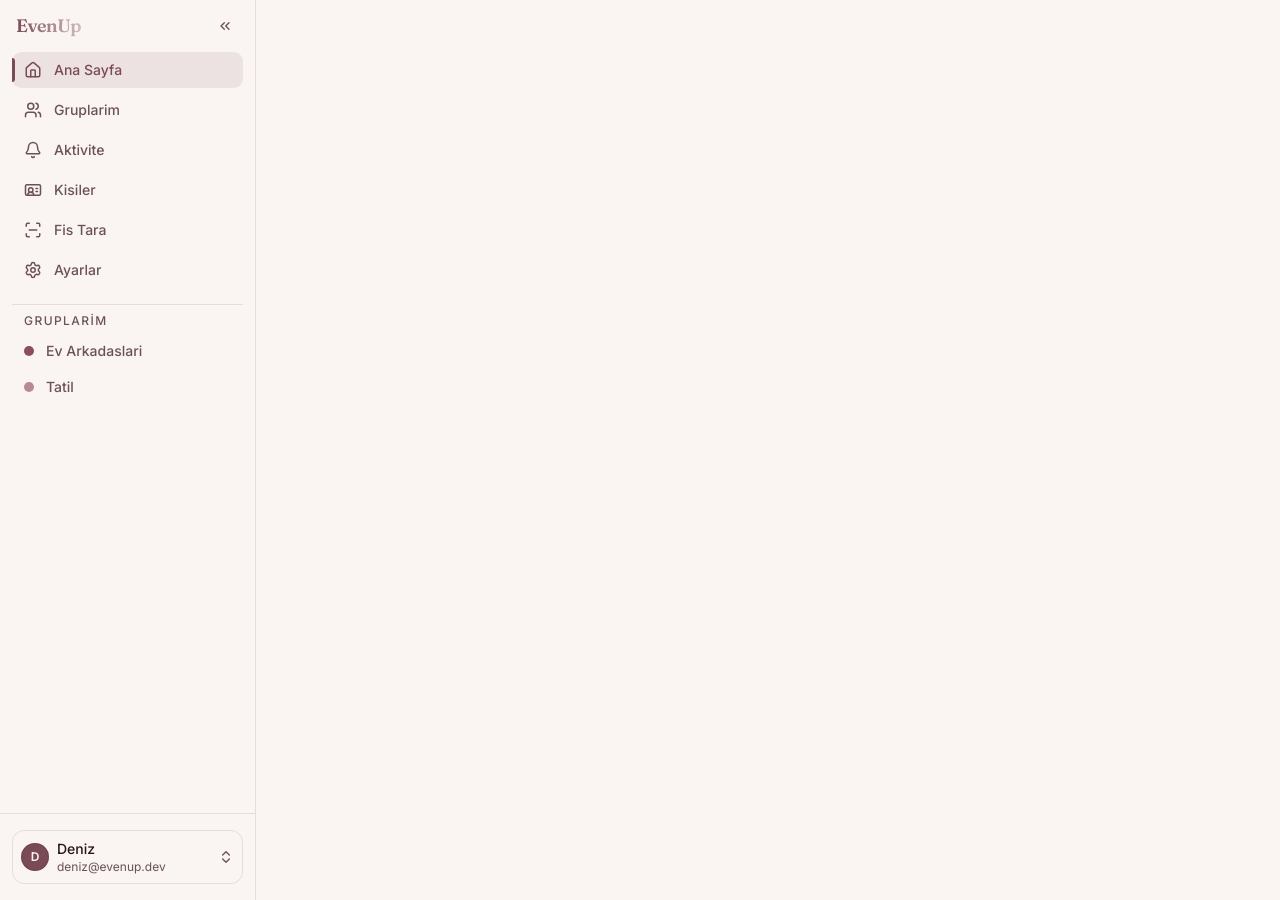
Sidebar — hesap menusu › cikis oturumu kapatir ve giris ekranina goturur
The width and height of the screenshot is (1280, 900).
Press the mouse on the button with aria-label "Hesap menusu": (128, 857) [12,830,243,884]
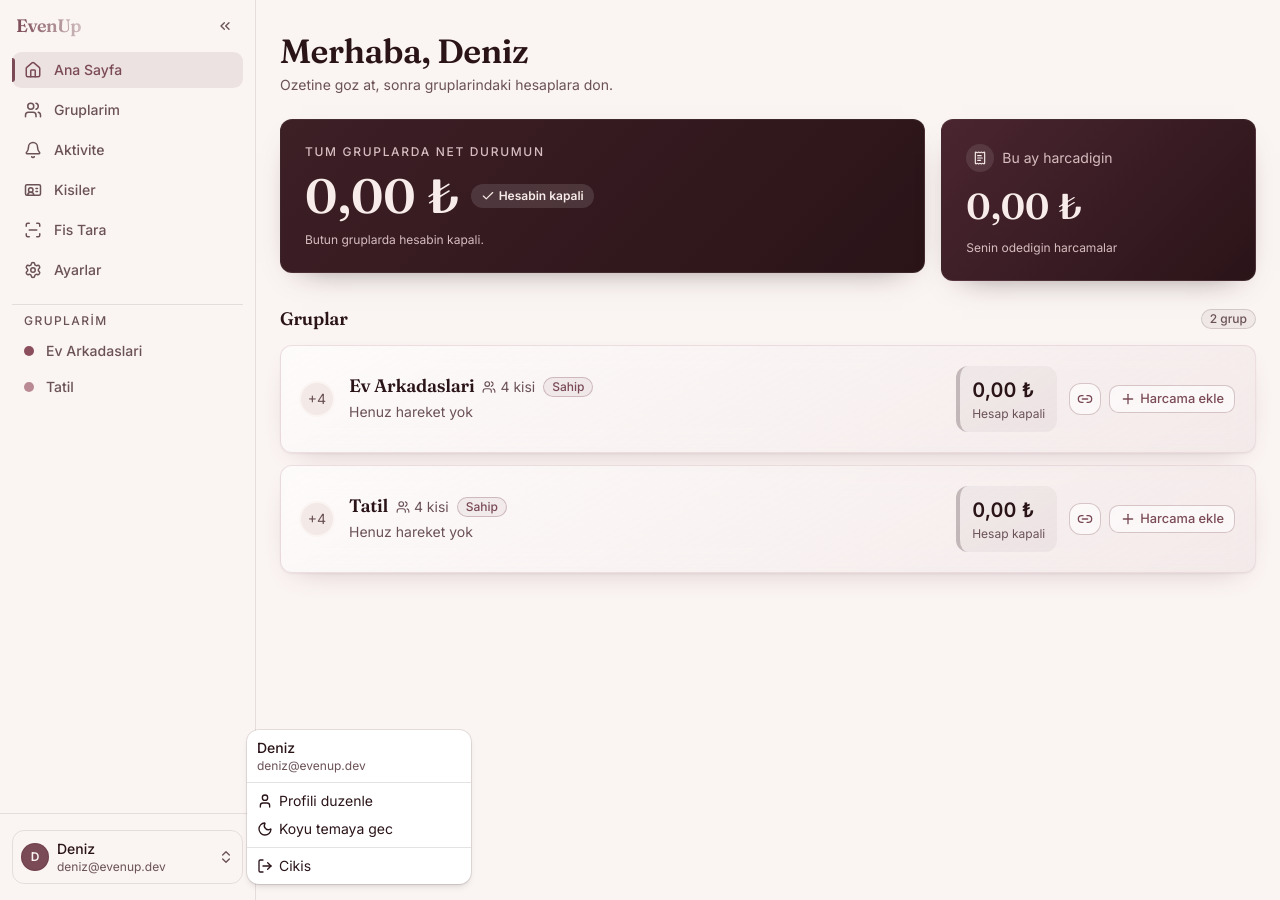
Click the menu item "Cikis": (284, 866) [257,857,311,874]
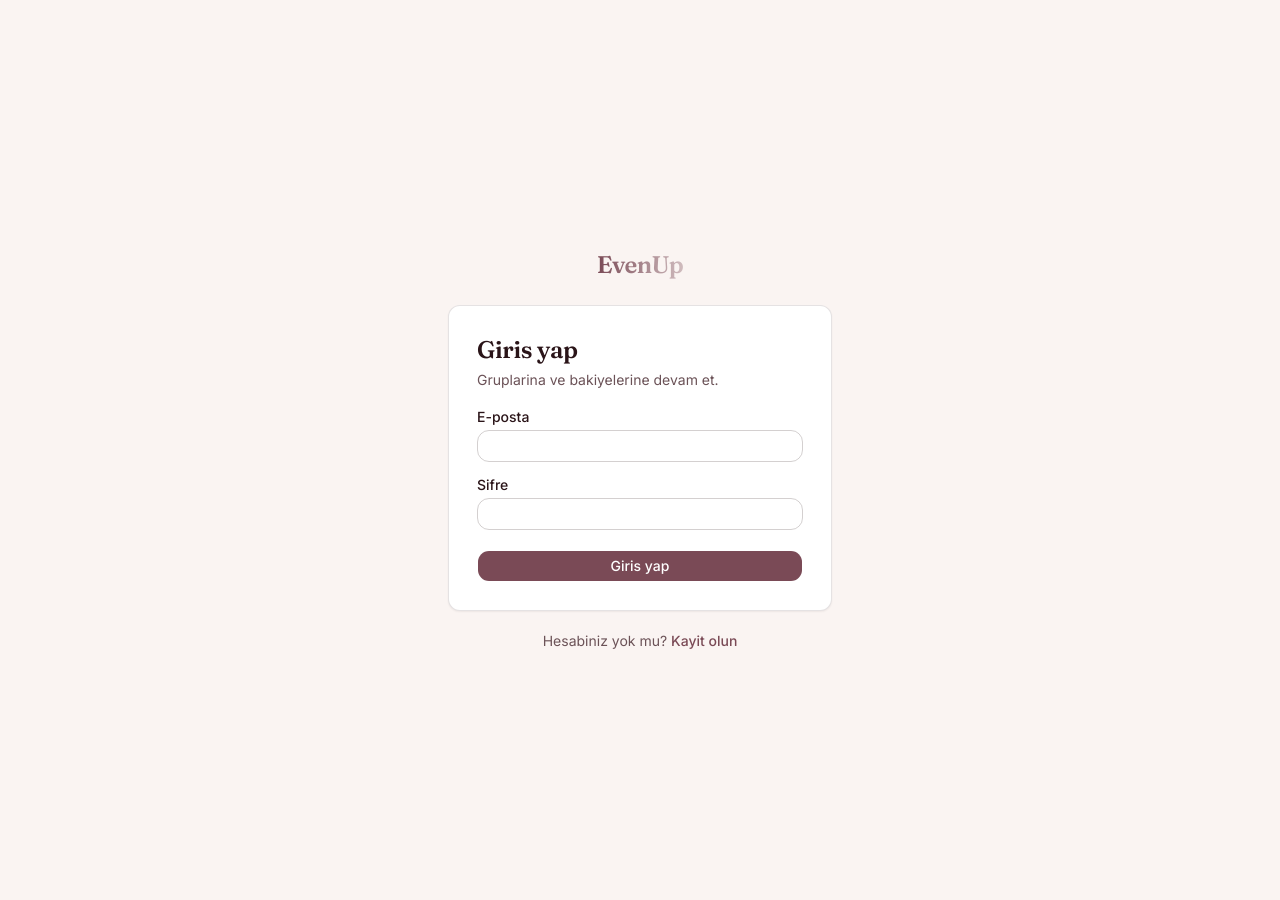
Expected: the heading "Giris yap" is shown, [477,335,578,364]
